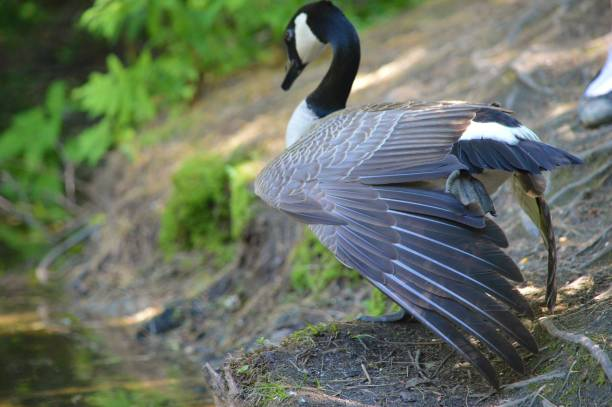goose: (251, 2, 584, 386)
